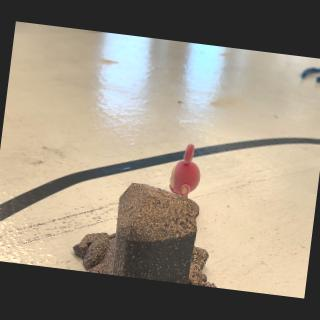teletubby: (169, 144, 200, 198)
